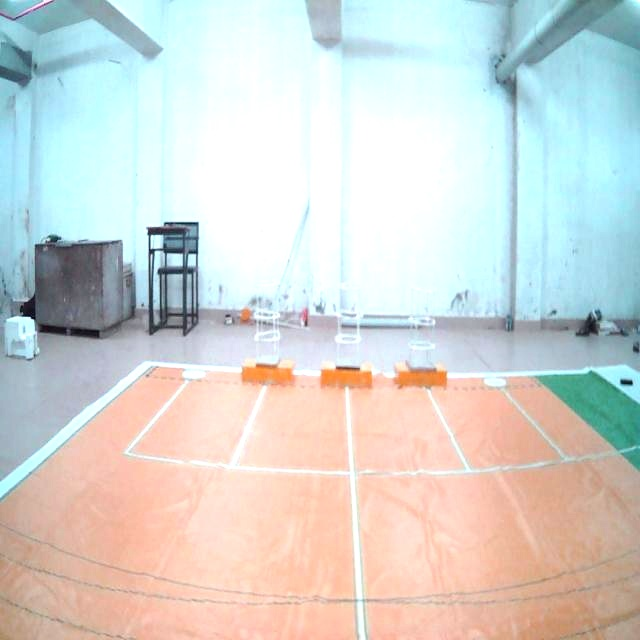silo: (331, 274, 374, 377), (402, 271, 439, 378), (252, 272, 285, 373)
